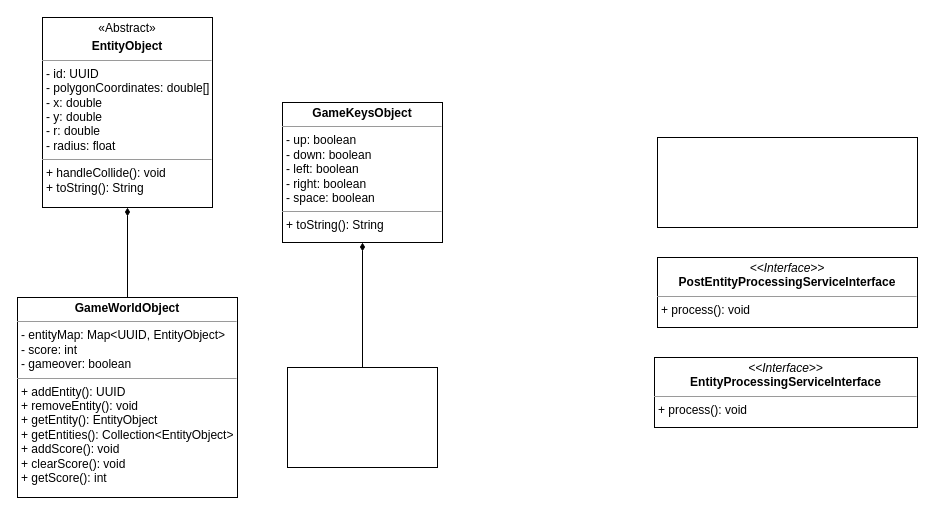
Image size: 935x515. Some labels were removed from this diagram. The box of each missing label's shape, as (x1, y1, x2, y2) in pixels:
<<Interface>> GamePluginServiceInterface + start(): void + stop(): void: (656, 136, 918, 228)
GameDataObject - displayWidth: int - displayHeight: int - keys: GameKeysObject: (286, 366, 438, 468)
